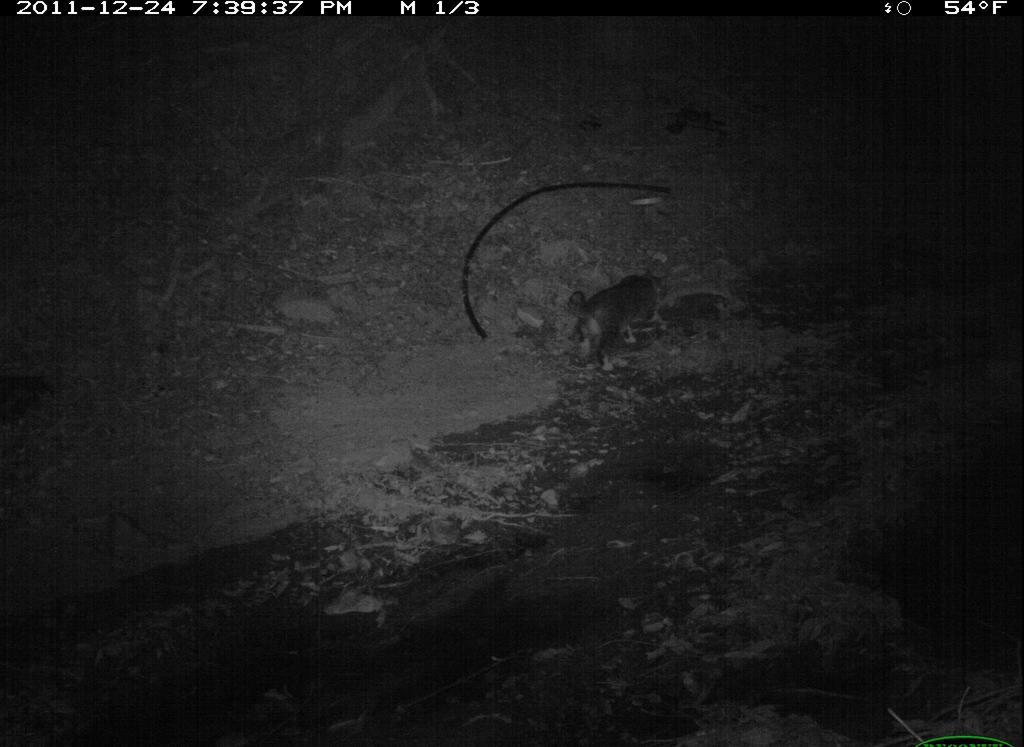cat: (564, 260, 678, 379)
